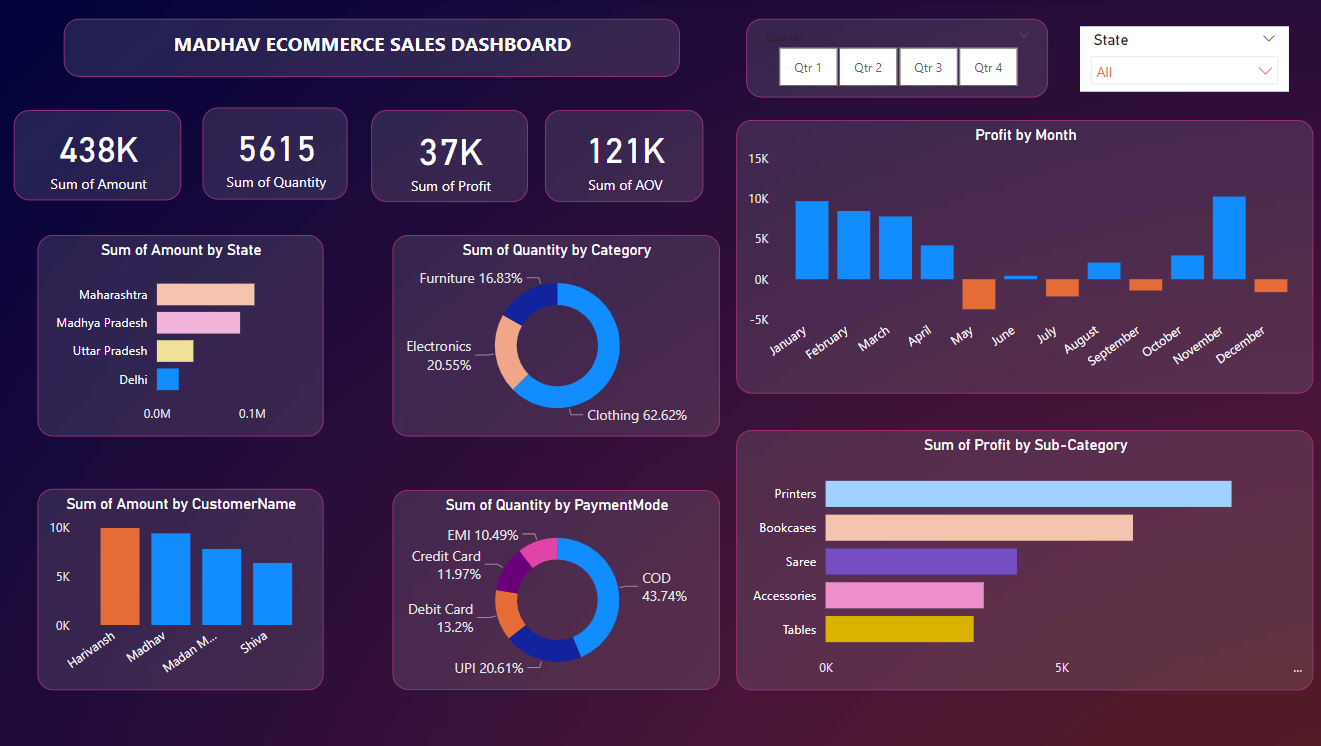

The dashboard page shown, as its layout file describes it:
{"tool":"powerbi","page":{"name":"Page 1","canvas":[1280,720],"ordinal":0},"visuals":[{"type":"columnChart","title":"Profit by Month","fields":{"Category":["Orders.Order Date.Variation.Date Hierarchy.Month"],"Y":["Details.Profit"]},"box":[710,115.7,557.1,264.3],"z":0},{"type":"barChart","fields":{"Category":["Details.Sub-Category"],"Y":["Details.Profit"]},"box":[710,414.3,557.1,251.4],"z":1000},{"type":"donutChart","fields":{"Category":["Details.PaymentMode"],"Y":["Details.Quantity"]},"box":[378.6,472.9,315.7,192.9],"z":2000},{"type":"donutChart","fields":{"Category":["Details.Category"],"Y":["Details.Quantity"]},"box":[378.6,227.1,315.7,194.3],"z":3000},{"type":"card","fields":{"Values":["Details.Amount"]},"box":[12.9,105.7,161.4,87.1],"z":4000},{"type":"card","fields":{"Values":["Details.Quantity"]},"box":[195.7,104.3,140,88.6],"z":5000},{"type":"card","fields":{"Values":["Details.AOV"]},"box":[525.7,105.7,152.9,88.6],"z":6000},{"type":"card","fields":{"Values":["Details.Profit"]},"box":[358.6,105.7,151.4,88.6],"z":7000},{"type":"barChart","fields":{"Category":["Orders.State"],"Y":["Details.Amount"]},"box":[35.7,227.1,275.7,194.3],"z":8000},{"type":"columnChart","fields":{"Category":["Orders.CustomerName"],"Y":["Details.Amount"]},"box":[35.7,471.4,275.7,194.3],"z":9000},{"type":"textbox","box":[61.4,18.6,594.3,55.7],"z":10000},{"type":"slicer","fields":{"Values":["Orders.Order Date.Variation.Date Hierarchy.Quarter"]},"box":[720,18.6,291.4,75.7],"z":11000},{"type":"slicer","fields":{"Values":["Orders.State"]},"box":[1041.4,25.7,201.4,62.9],"z":11001}]}

Visuals, with their boxes in screenshot pixels (x1, y1, x2, y2), scaled from the page's 1280x720 canvas onto the 1321x746 screenshot:
"Profit by Month" columnChart: Rect(733, 120, 1308, 394)
barChart - Details.Sub-Category x Details.Profit: Rect(733, 429, 1308, 690)
donutChart - Details.PaymentMode x Details.Quantity: Rect(391, 490, 717, 690)
donutChart - Details.Category x Details.Quantity: Rect(391, 235, 717, 437)
card - Details.Amount: Rect(13, 110, 180, 200)
card - Details.Quantity: Rect(202, 108, 346, 200)
card - Details.AOV: Rect(543, 110, 700, 201)
card - Details.Profit: Rect(370, 110, 526, 201)
barChart - Orders.State x Details.Amount: Rect(37, 235, 321, 437)
columnChart - Orders.CustomerName x Details.Amount: Rect(37, 488, 321, 690)
textbox: Rect(63, 19, 677, 77)
slicer - Orders.Order Date.Variation.Date Hierarchy.Quarter: Rect(743, 19, 1044, 98)
slicer - Orders.State: Rect(1075, 27, 1283, 92)
